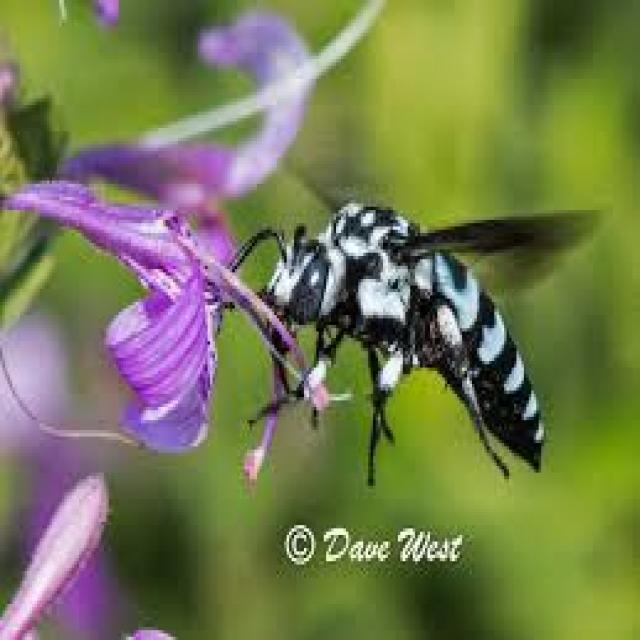Thyreus: (231, 163, 562, 504)
